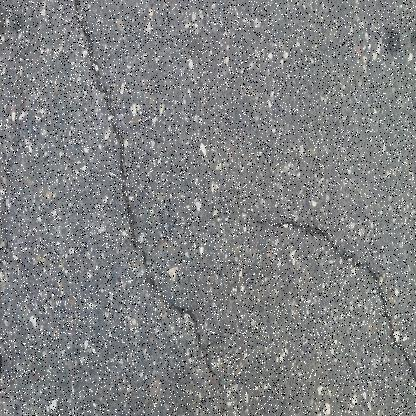Cracks: (70, 0, 221, 384), (260, 215, 415, 389)
